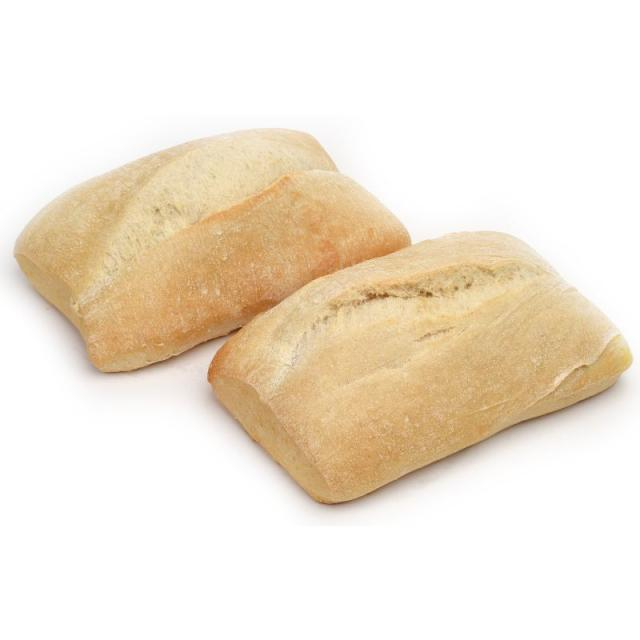Ciabatta: (208, 233, 632, 503), (15, 129, 410, 371)
